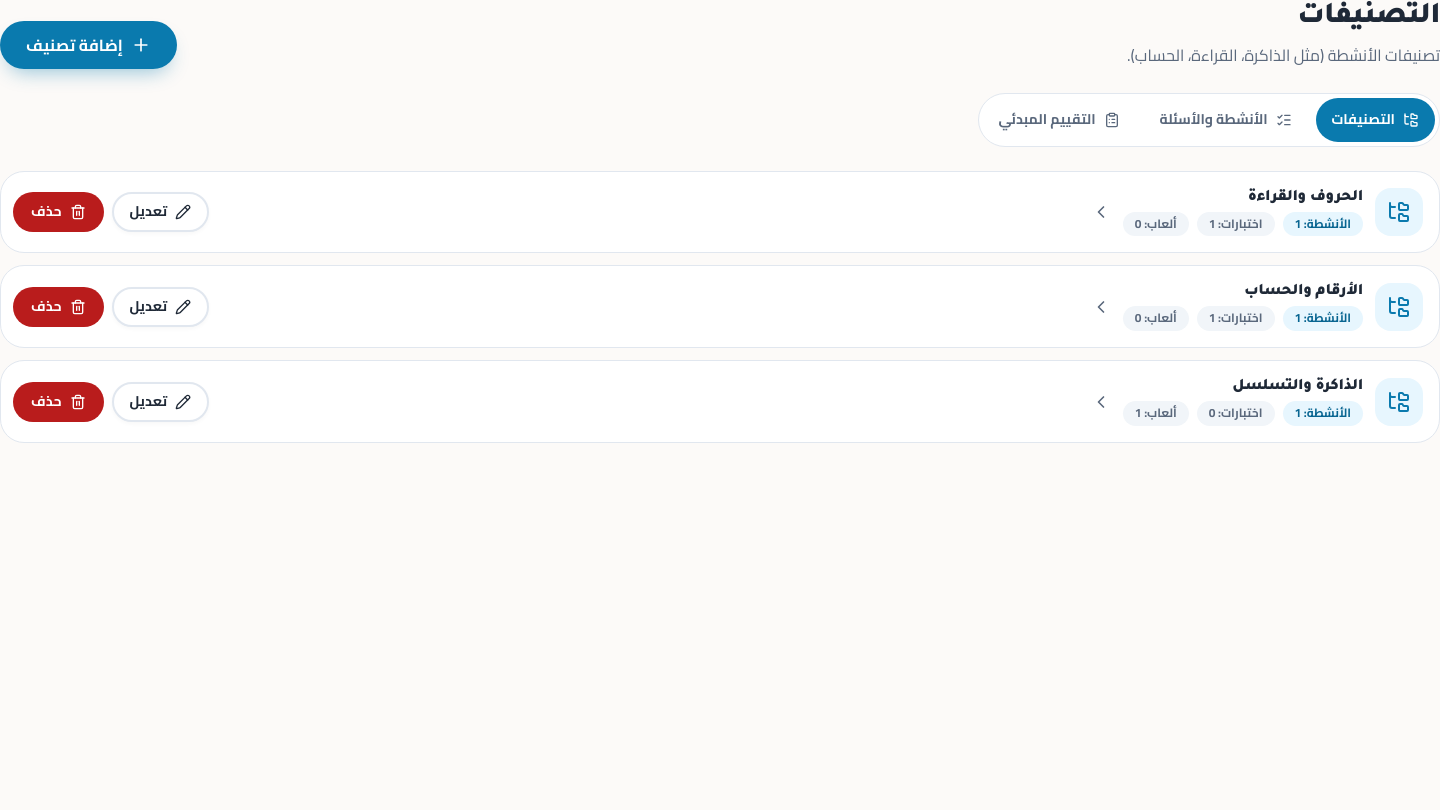
Test: CategoriesPage › validates and creates a category
This screenshot has width=1440, height=810.
Click the button "إضافة تصنيف" at (88, 45), box [0, 21, 177, 69]
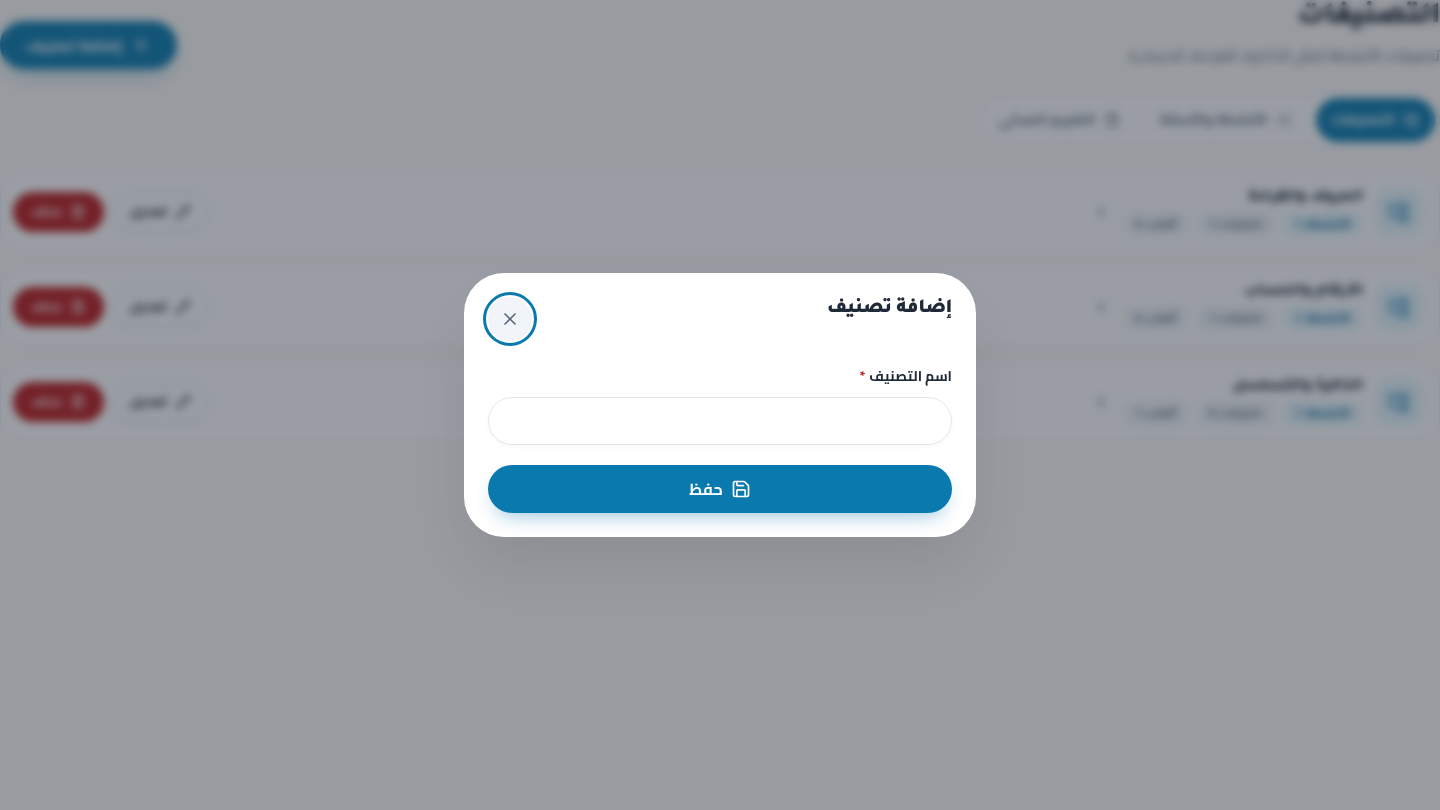
Click the button "حفظ" at (720, 489), box [488, 465, 952, 513]
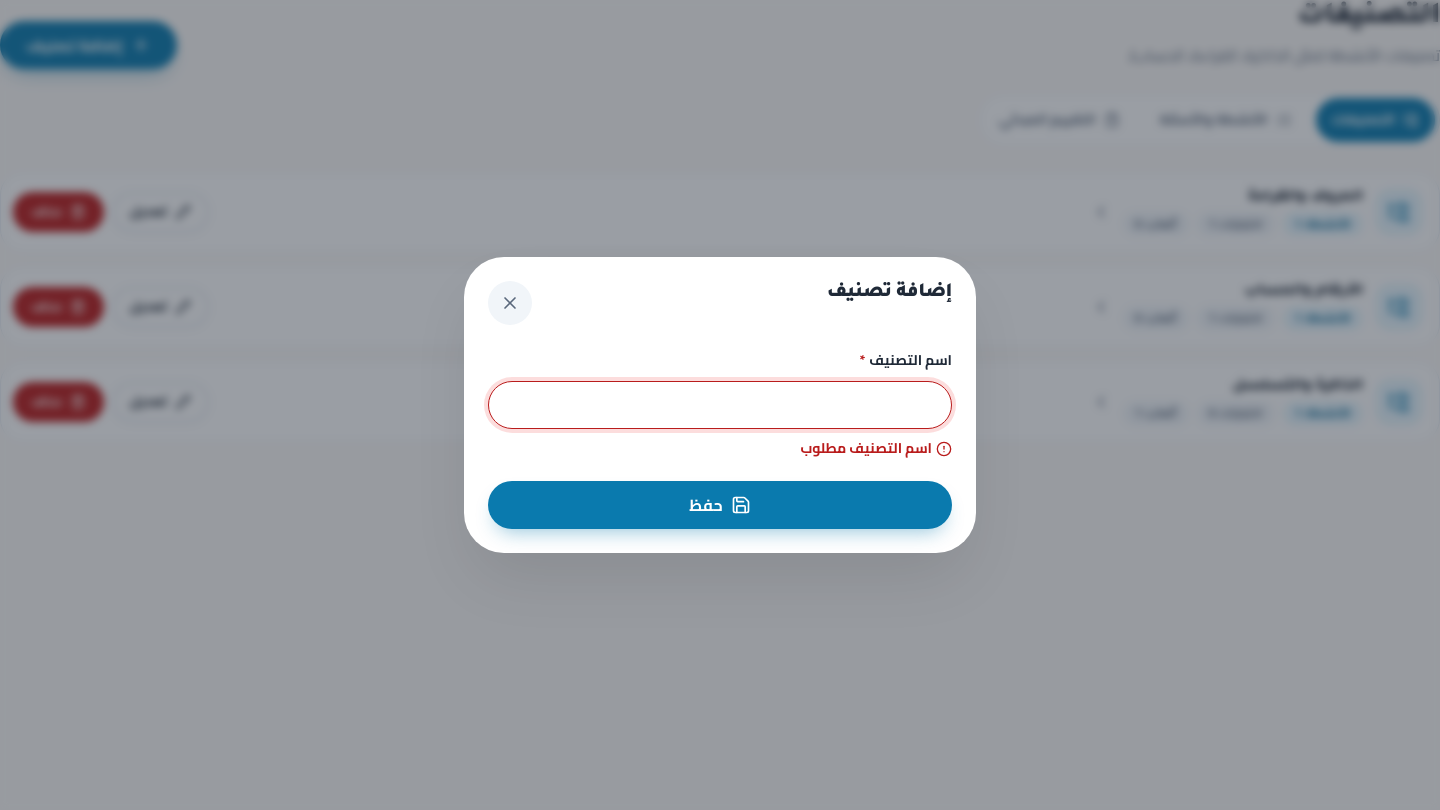
Now the text "اسم التصنيف مطلوب" is shown, box [800, 435, 952, 461]
Type "الكتابة" into the field labelled "اسم التصنيف*" at (720, 405), box [488, 381, 952, 429]
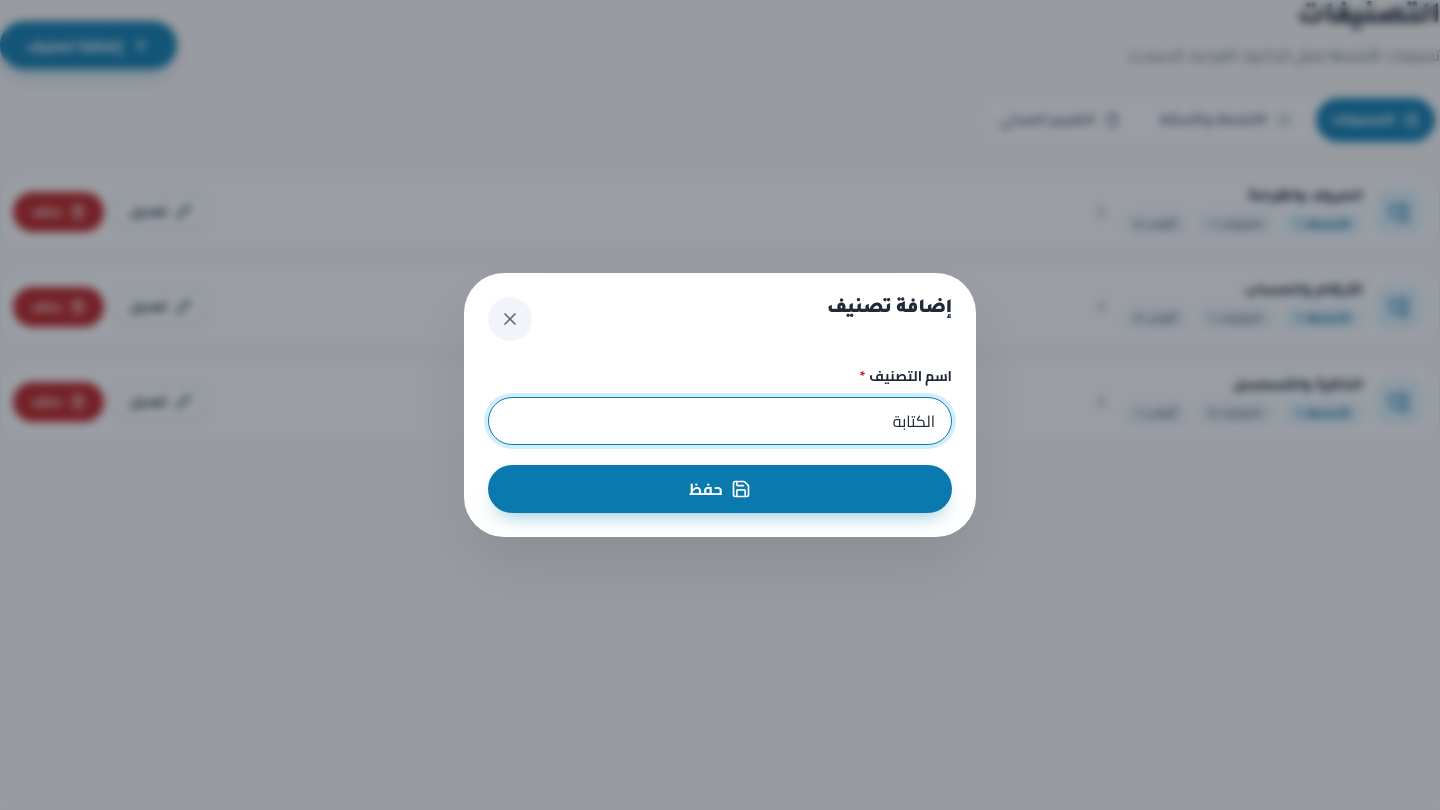
Click the button "حفظ" at (720, 489), box [488, 465, 952, 513]
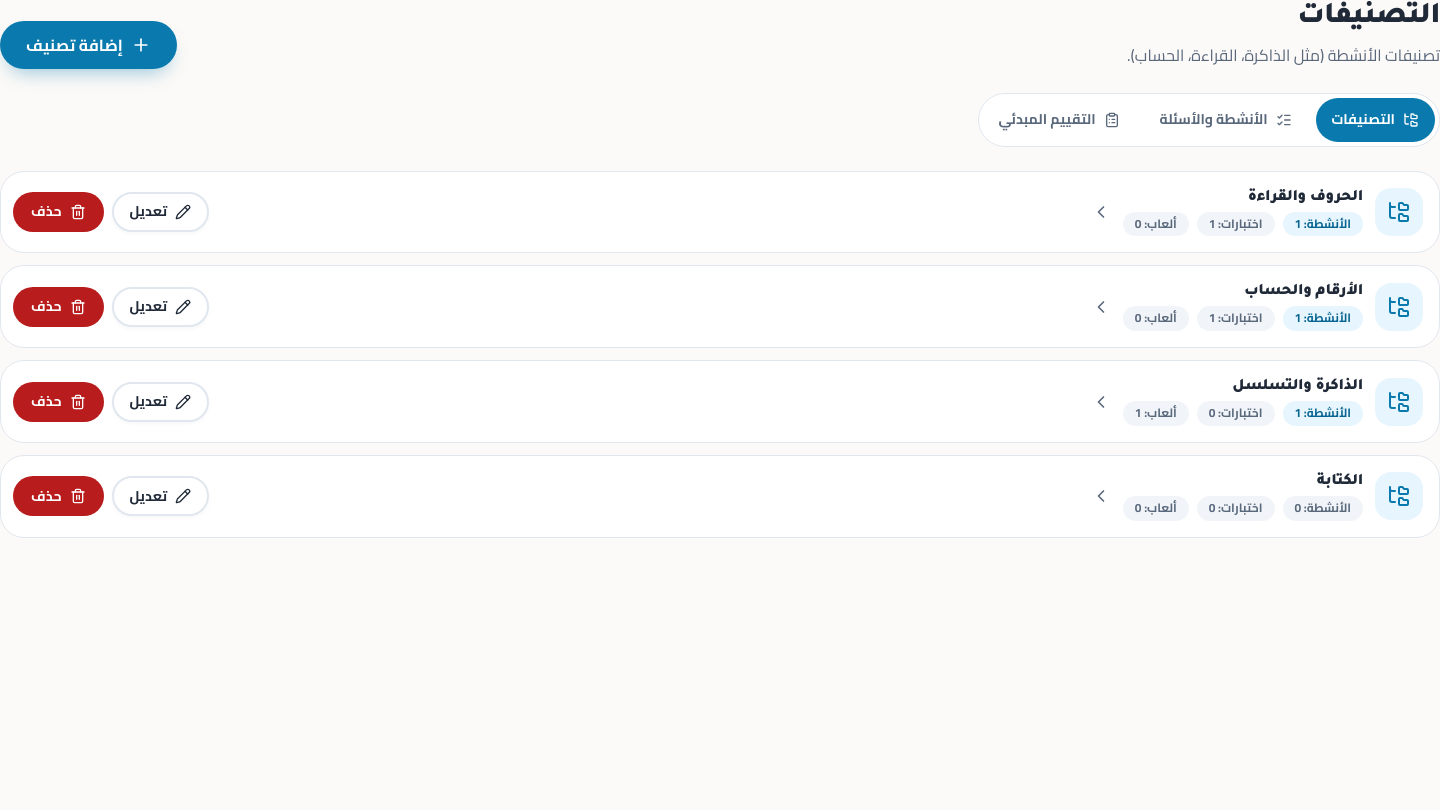
Now the heading "الكتابة" is shown, box [1317, 474, 1363, 490]
